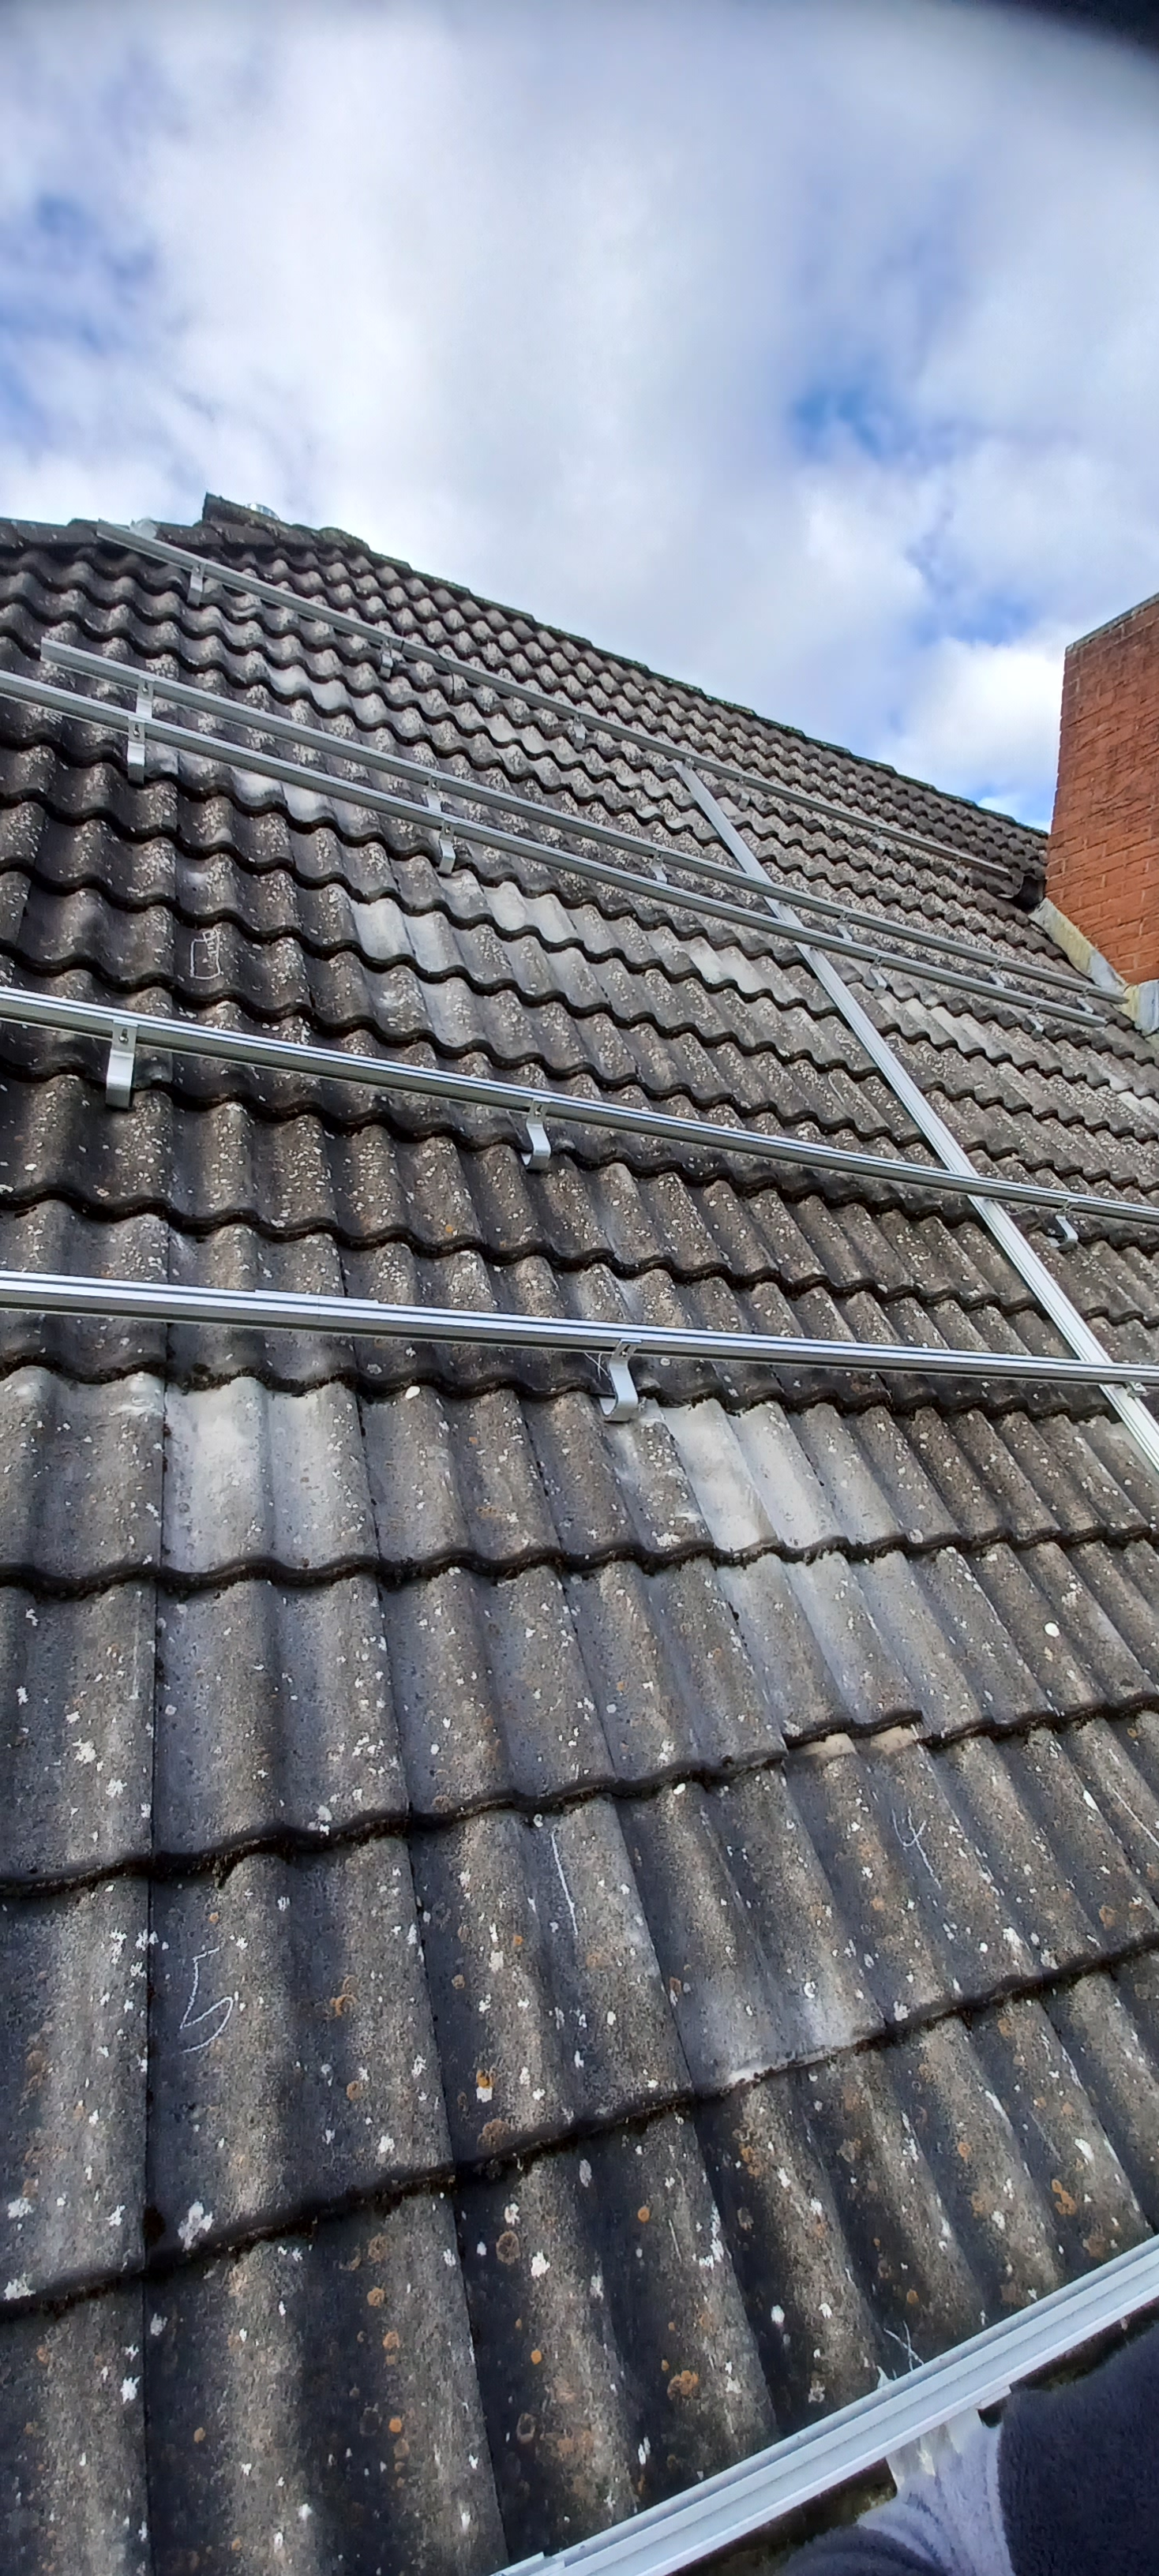hook: (940, 2385, 1013, 2453), (597, 1339, 641, 1421), (105, 1020, 138, 1109), (519, 1097, 551, 1171), (1046, 1198, 1078, 1250), (127, 716, 146, 785), (436, 818, 459, 874), (186, 559, 205, 608), (868, 955, 888, 997), (136, 675, 155, 718), (1024, 1002, 1044, 1040), (648, 848, 667, 884), (378, 636, 393, 680), (426, 775, 444, 812), (570, 711, 585, 751), (1075, 986, 1095, 1014), (735, 774, 750, 810), (835, 910, 852, 941), (988, 958, 1004, 987), (871, 826, 884, 858), (952, 856, 965, 885)
